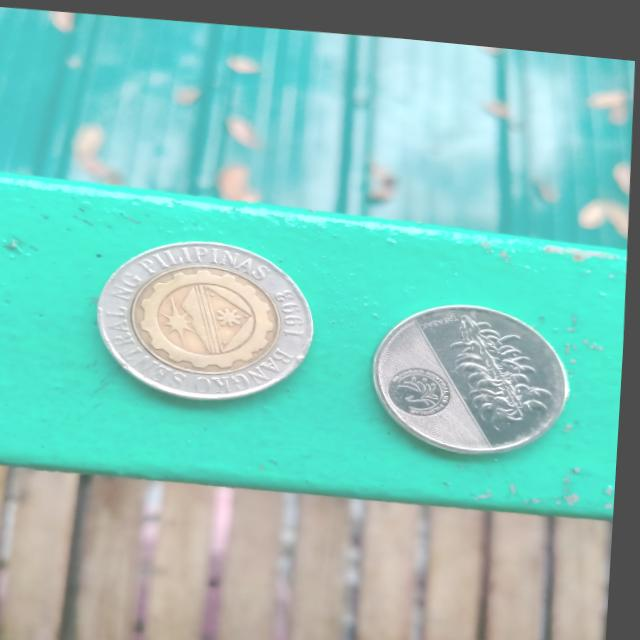10_Old_Back: (91, 225, 327, 404)
5_New_Back: (435, 298, 561, 438)
